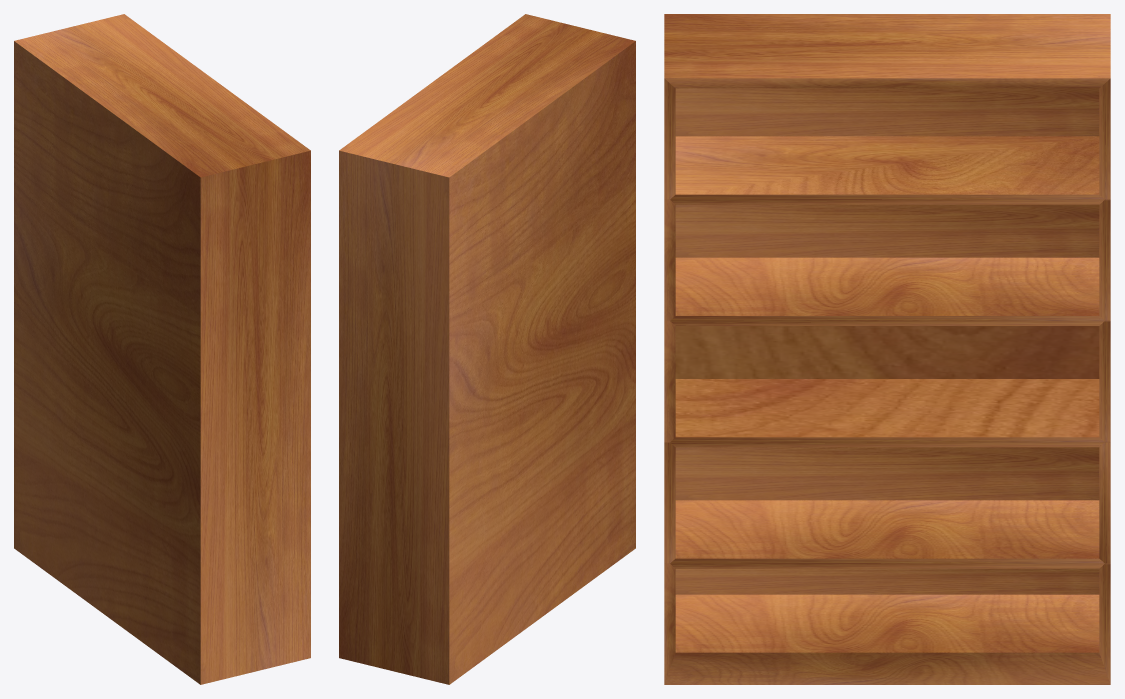
Rendered from szafka_bez_dzi.fbx.
The picture shows the model from 3 angles, left to right: view 1: azimuth 30°, elevation 25°; view 2: azimuth 150°, elevation 25°; view 3: azimuth 270°, elevation 25°; orthographic projection. The views are drawn at different scales.
Parts seen in each view (by area): view 1: Cube.015; view 2: Cube.015; view 3: Cube.015.
Part boxes in pixels (left/top/right/bottom): Cube.015: left=14, top=14, right=310, bottom=684; Cube.015: left=339, top=14, right=635, bottom=684; Cube.015: left=664, top=14, right=1110, bottom=684.
Bounding box in the file's own units: 68.28 × 300 × 200.
Materials: 1 (1 with a texture image).
